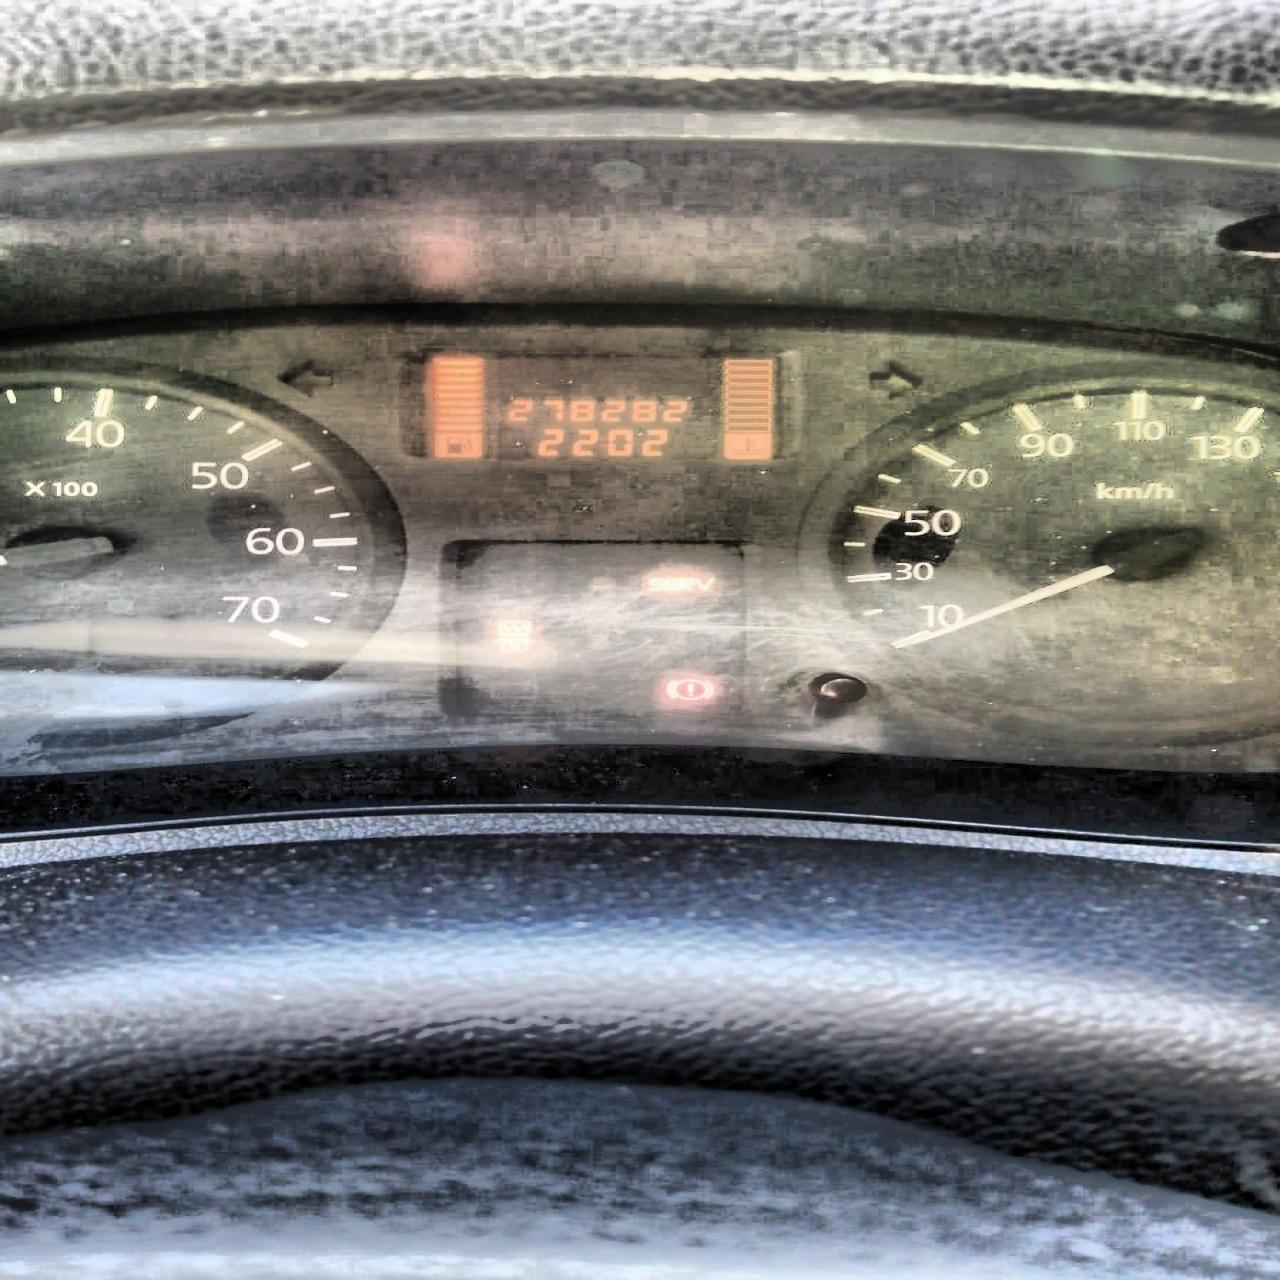0: (602, 428, 634, 456)
2: (535, 428, 564, 456), (570, 428, 599, 456), (639, 428, 667, 456), (506, 400, 533, 422), (600, 400, 626, 422), (661, 400, 687, 422)
7: (539, 400, 563, 421)
8: (567, 400, 594, 422), (631, 400, 655, 422)
odometer: (404, 347, 792, 462)
